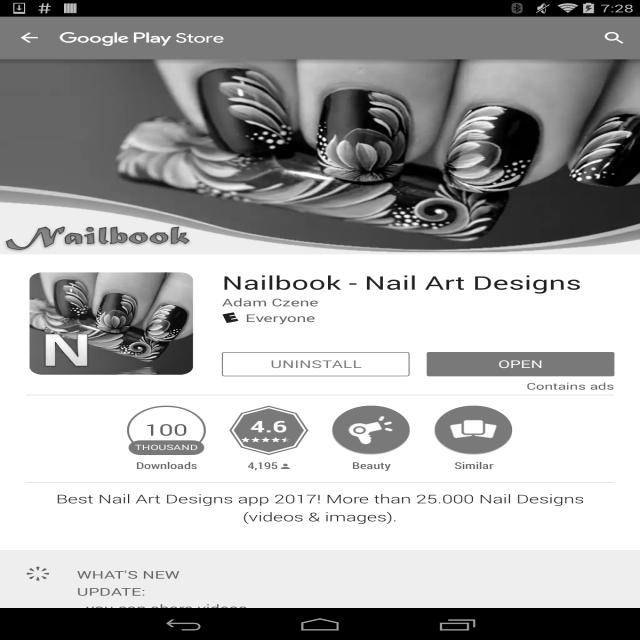Button: (222, 406, 316, 472), (324, 406, 418, 472), (426, 406, 520, 472), (222, 352, 409, 376), (427, 352, 614, 376)
ImageButton: (0, 17, 60, 59)
ImageView: (0, 59, 640, 254), (26, 270, 196, 377), (332, 406, 411, 455), (434, 406, 513, 455), (60, 30, 224, 46), (26, 566, 51, 582), (222, 312, 239, 323), (281, 464, 290, 469)
TextView: (0, 490, 640, 537), (77, 584, 614, 640), (222, 270, 614, 295), (77, 566, 614, 584), (589, 22, 640, 54), (324, 455, 418, 472), (426, 455, 520, 472), (120, 455, 213, 472), (222, 295, 318, 309), (526, 380, 614, 392), (245, 311, 316, 325), (144, 420, 188, 440), (250, 415, 288, 437), (133, 443, 200, 452), (247, 455, 278, 472)
